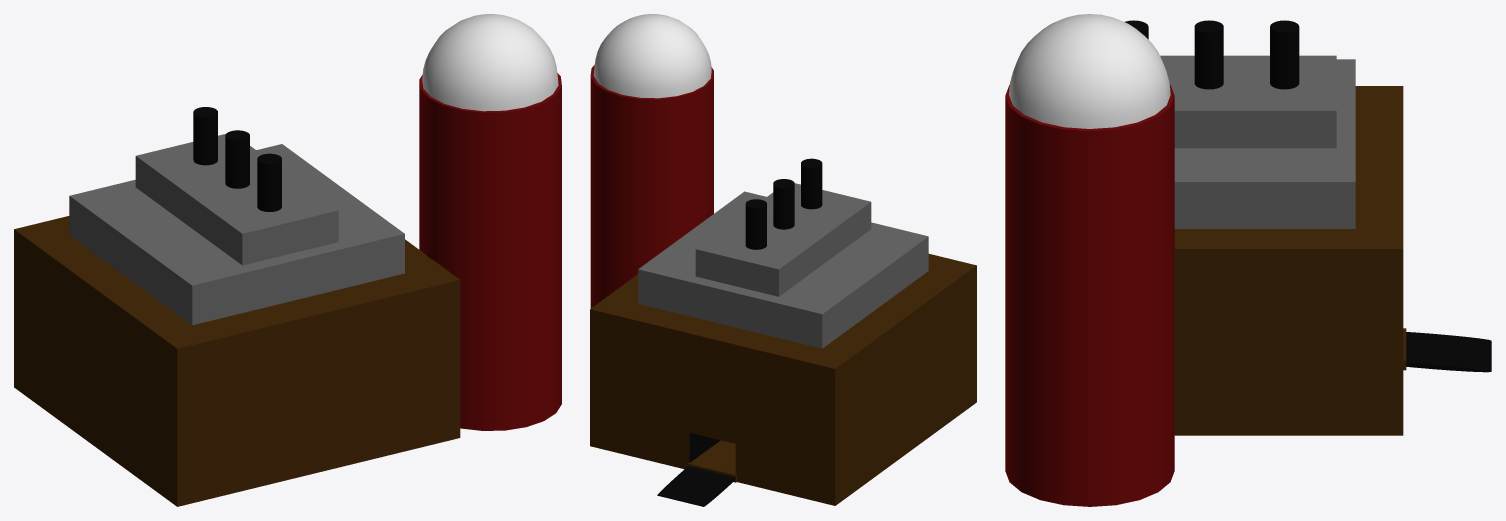
File: FactoryBuilding.fbx
The picture shows the model from 3 angles, left to right: view 1: azimuth 30°, elevation 25°; view 2: azimuth 150°, elevation 25°; view 3: azimuth 270°, elevation 25°; orthographic projection. The views are drawn at different scales.
Parts seen in each view (by area): view 1: pCube8; view 2: pCube8; view 3: pCube8.
Boxes of the visible parts, left/top/right/bottom form: pCube8: left=14, top=14, right=561, bottom=506; pCube8: left=590, top=14, right=976, bottom=506; pCube8: left=1005, top=14, right=1491, bottom=506.
Bounding box in the file's own units: 77.08 × 69.39 × 67.72.
